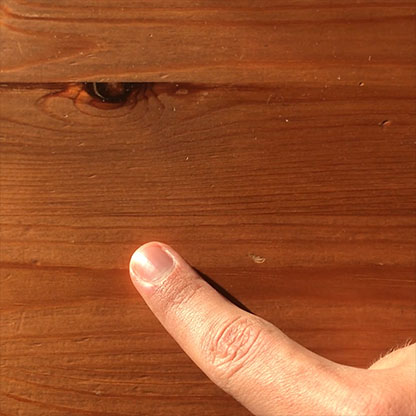fingertip: (124, 230, 199, 297)
